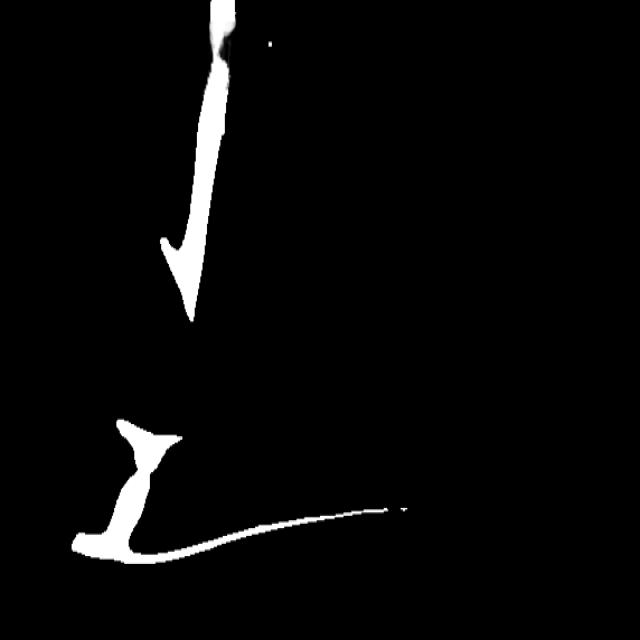sl: (205, 18, 237, 82)
